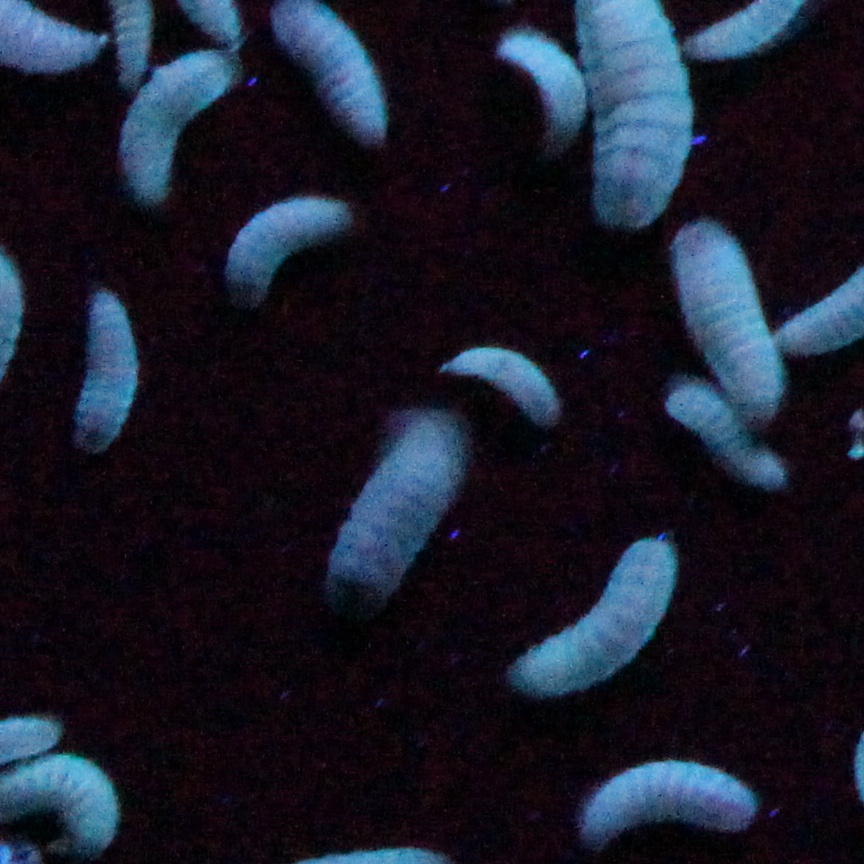larve: (330, 411, 464, 613), (508, 533, 673, 695), (662, 215, 782, 417), (577, 746, 762, 851), (124, 47, 231, 198), (224, 193, 348, 308), (668, 382, 786, 493), (433, 335, 557, 431), (68, 288, 137, 455), (497, 30, 587, 157)
